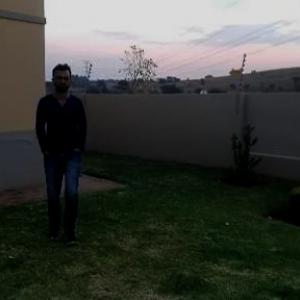follow: (32, 60, 91, 230)
